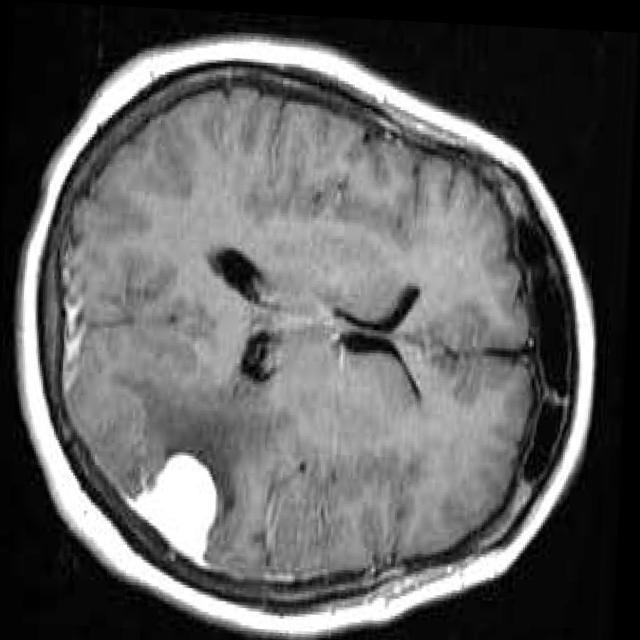Tumor: (147, 456, 217, 560)
